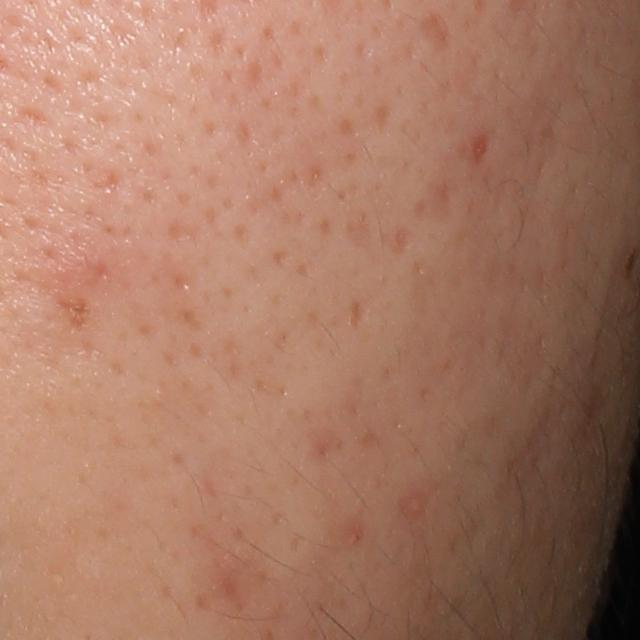atrophic_scar: (414, 175, 462, 227), (423, 14, 454, 51), (348, 296, 363, 332)
